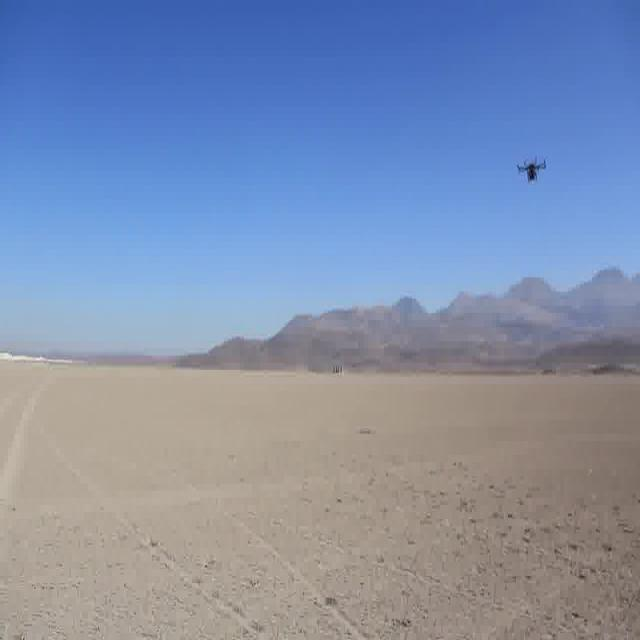drones: (511, 149, 551, 192)
